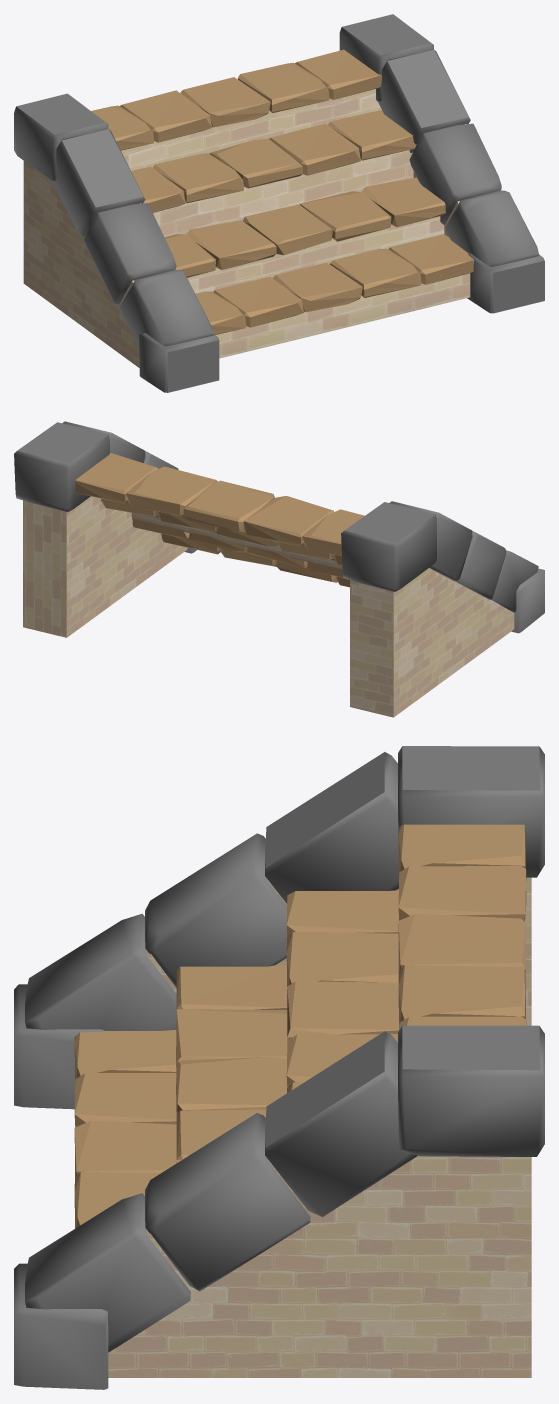
File: SM_staircase_small_02.fbx
The picture shows the model from 3 angles, top to bottom: view 1: azimuth 30°, elevation 25°; view 2: azimuth 150°, elevation 25°; view 3: azimuth 270°, elevation 25°; orthographic projection. The views are drawn at different scales.
Parts seen in each view (by area): view 1: Object32977; view 2: Object32977; view 3: Object32977.
Part boxes in pixels (box(x1,y1,x2,y2)): Object32977: box(14, 14, 544, 392); Object32977: box(14, 421, 544, 717); Object32977: box(14, 746, 544, 1389).
Size of the model in its own units: 120 by 53.78 by 81.76.
